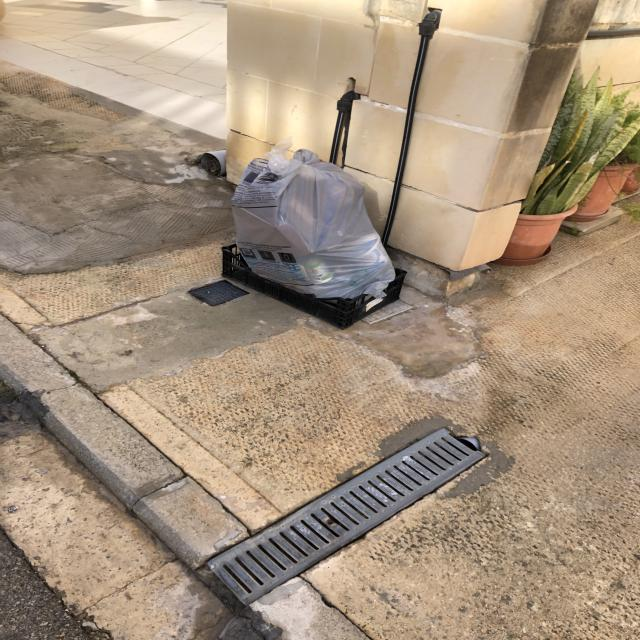Other: (220, 246, 411, 332)
Recycled Waste -Grey or Green Bag-: (227, 134, 398, 305)
